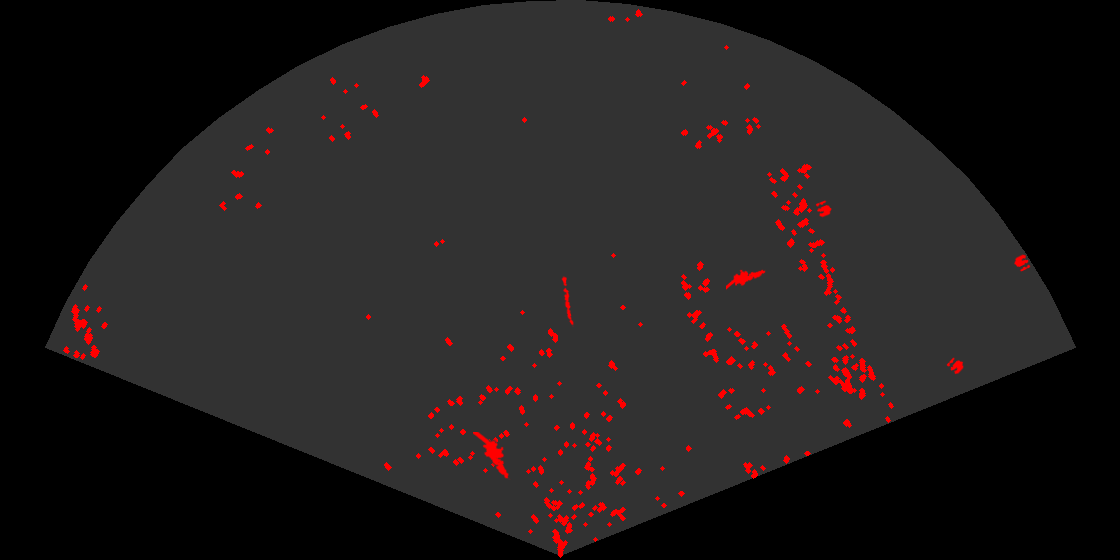ball: (945, 356, 965, 376), (1013, 253, 1032, 273), (814, 199, 833, 219)
chain: (560, 276, 575, 327)
frogman: (473, 432, 512, 480), (726, 268, 766, 292)
